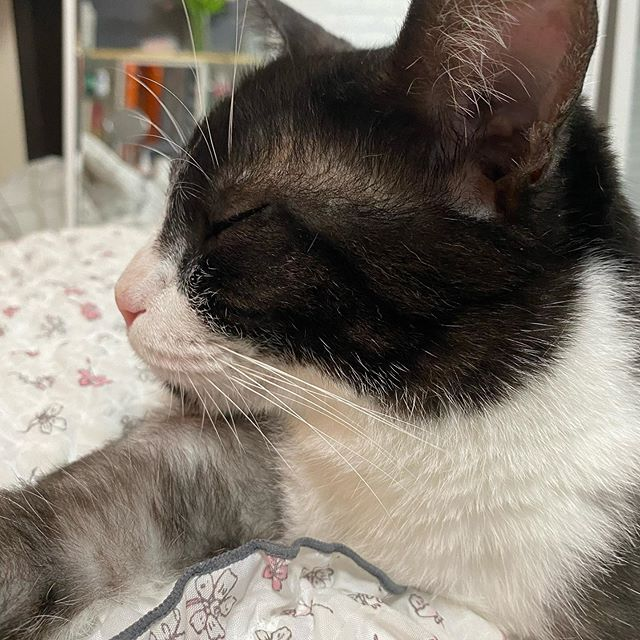cat: (111, 1, 597, 486)
